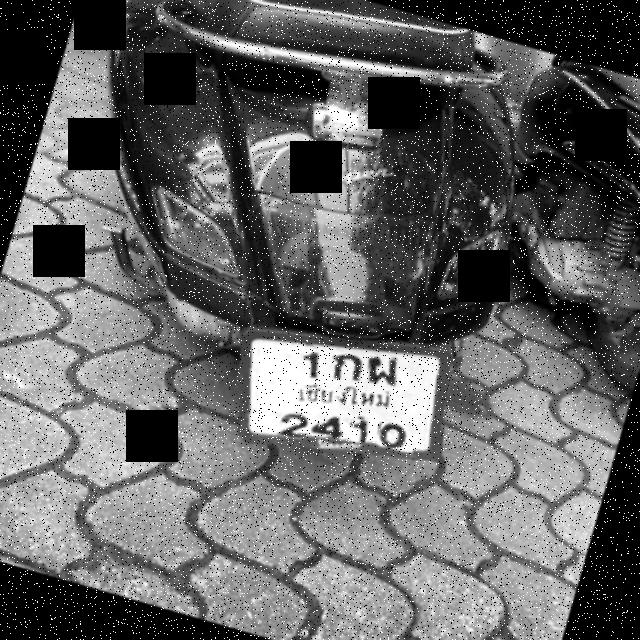letters: (364, 352, 409, 396), (375, 418, 420, 454), (327, 348, 367, 388), (296, 344, 332, 384), (271, 408, 313, 441), (315, 410, 349, 440), (348, 417, 371, 445)
license-plate: (246, 337, 446, 455)
province: (288, 385, 400, 412)
